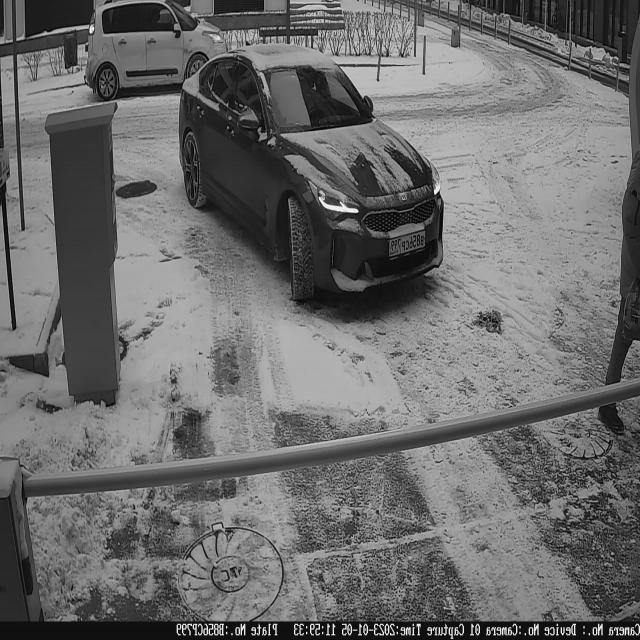car-plate-numbers: (387, 229, 430, 261)
